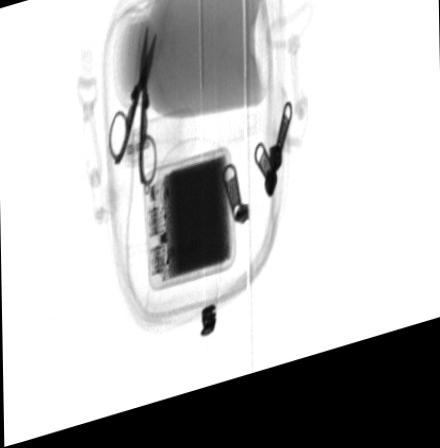Powerbank: (142, 157, 236, 296)
Scissors: (107, 30, 156, 198)
